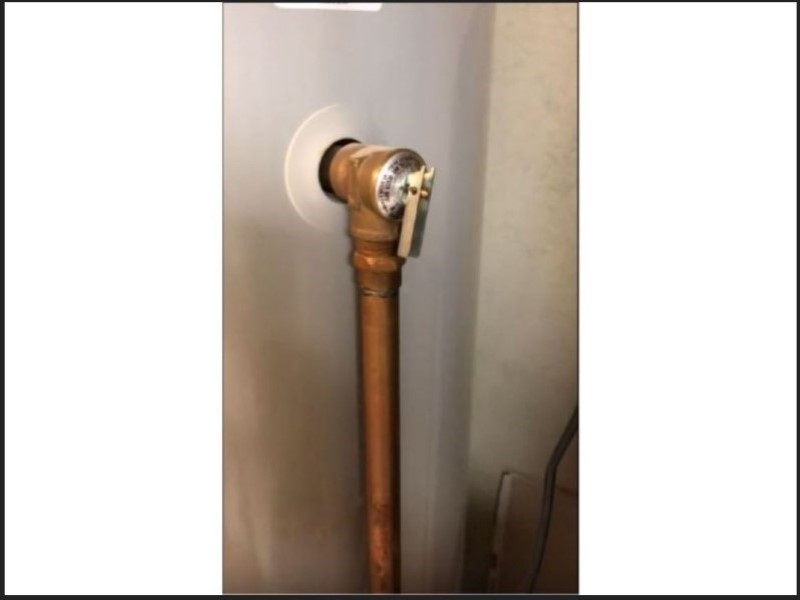Valve: (320, 137, 436, 298)
